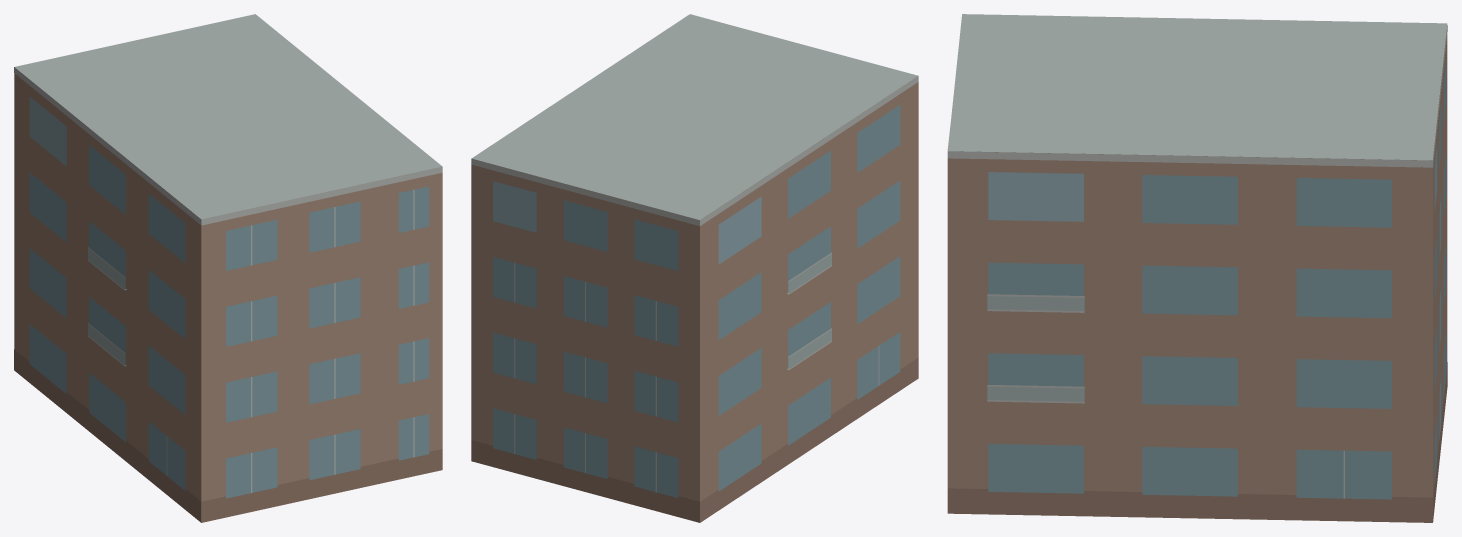
Rendered from residential-55744ebd-da1f-4618-9ea6-620678a0a1cd.glb.
The picture shows the model from 3 angles, left to right: view 1: azimuth 30°, elevation 25°; view 2: azimuth 150°, elevation 25°; view 3: azimuth 270°, elevation 25°; orthographic projection. The views are drawn at different scales.
Visible parts, largest first — view 1: residential-55744ebd-da1f-4618-9ea6-620678a0a1cd.tmp; view 2: residential-55744ebd-da1f-4618-9ea6-620678a0a1cd.tmp; view 3: residential-55744ebd-da1f-4618-9ea6-620678a0a1cd.tmp.
Boxes of the visible parts, x1=… form: residential-55744ebd-da1f-4618-9ea6-620678a0a1cd.tmp: x1=14, y1=14, x2=442, y2=522; residential-55744ebd-da1f-4618-9ea6-620678a0a1cd.tmp: x1=471, y1=14, x2=918, y2=522; residential-55744ebd-da1f-4618-9ea6-620678a0a1cd.tmp: x1=947, y1=14, x2=1447, y2=522.
Size of the model in its own units: 10.58 by 12.2 by 15.26.
